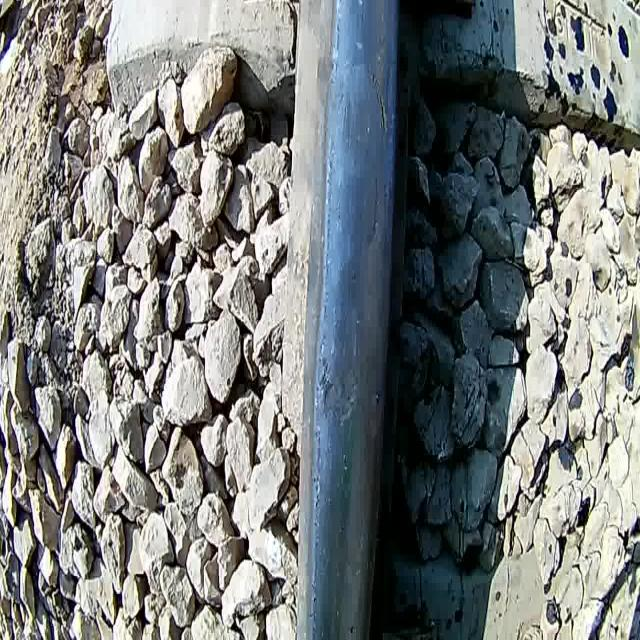Cracks: (358, 48, 405, 153)
Squats: (304, 342, 381, 454)
